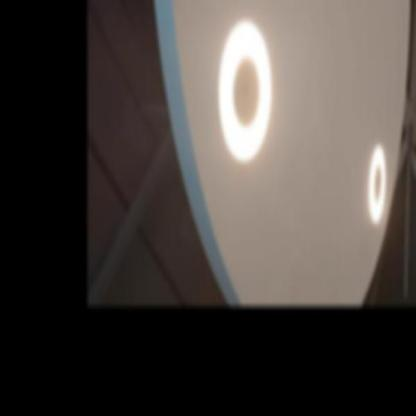light_on: (206, 0, 279, 191), (360, 130, 394, 237)
